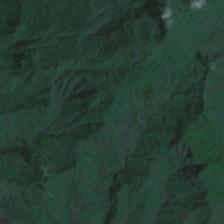landslides: (0, 182, 51, 224), (127, 0, 169, 13), (68, 85, 101, 98), (50, 188, 68, 206), (64, 99, 91, 111), (67, 80, 83, 97), (154, 15, 168, 34), (81, 114, 101, 127), (193, 180, 207, 195), (6, 18, 22, 31), (128, 161, 151, 170), (188, 198, 210, 207), (92, 132, 105, 147), (180, 142, 191, 159), (22, 73, 35, 87), (40, 208, 50, 224), (11, 31, 24, 43), (192, 161, 203, 175), (87, 27, 101, 38), (58, 78, 68, 93), (75, 110, 91, 119), (106, 19, 118, 31), (171, 163, 183, 175), (98, 26, 109, 38), (46, 179, 55, 192), (206, 169, 216, 180), (187, 157, 198, 167), (12, 60, 24, 69), (162, 157, 174, 166), (4, 25, 16, 34), (23, 83, 36, 91), (176, 143, 184, 156), (54, 181, 64, 191), (190, 176, 200, 186)
